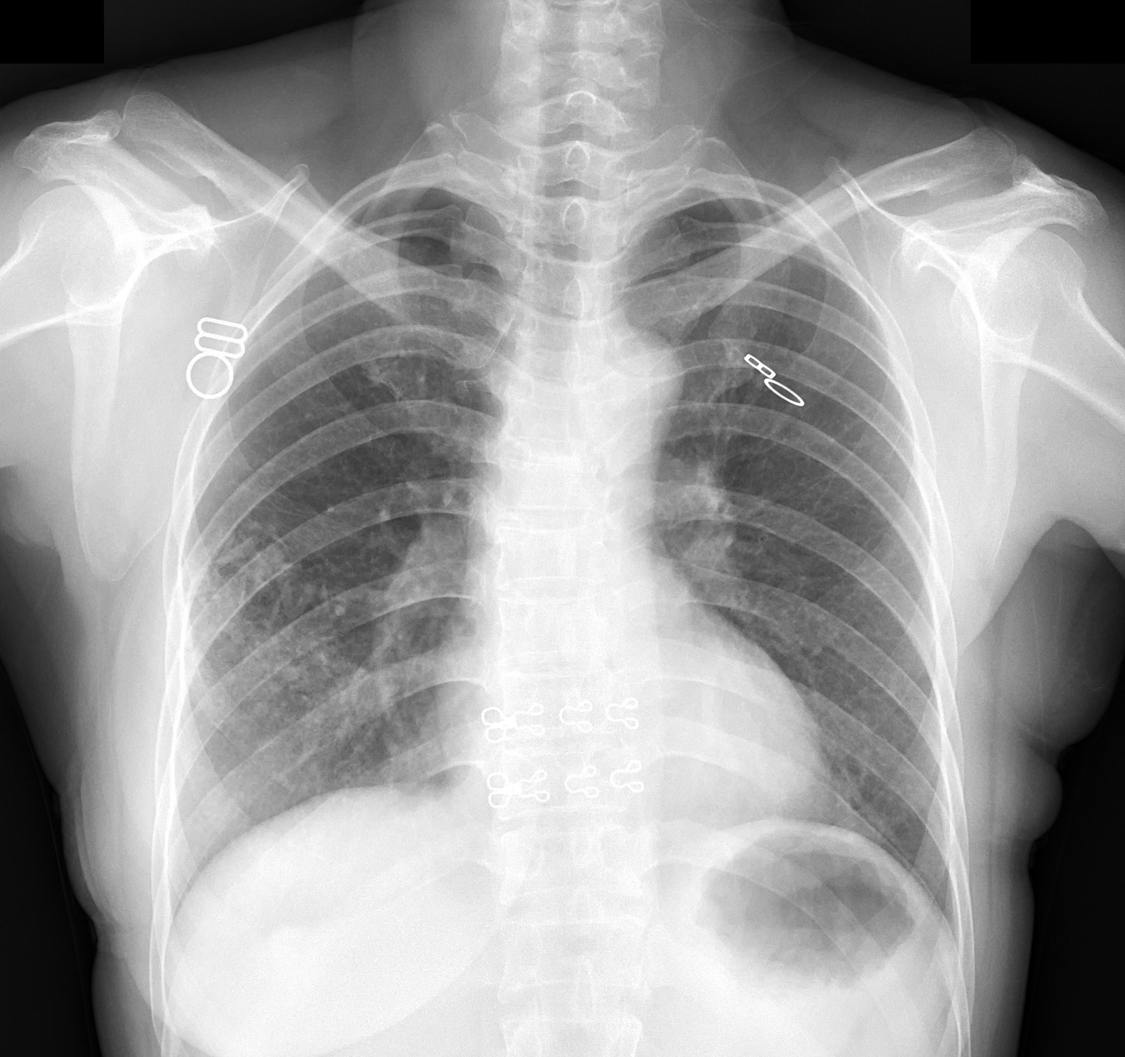Aortic enlargement: (563, 323, 687, 455)
Cardiomegaly: (432, 663, 830, 830)
Pulmonary fibrosis: (178, 526, 404, 781)
